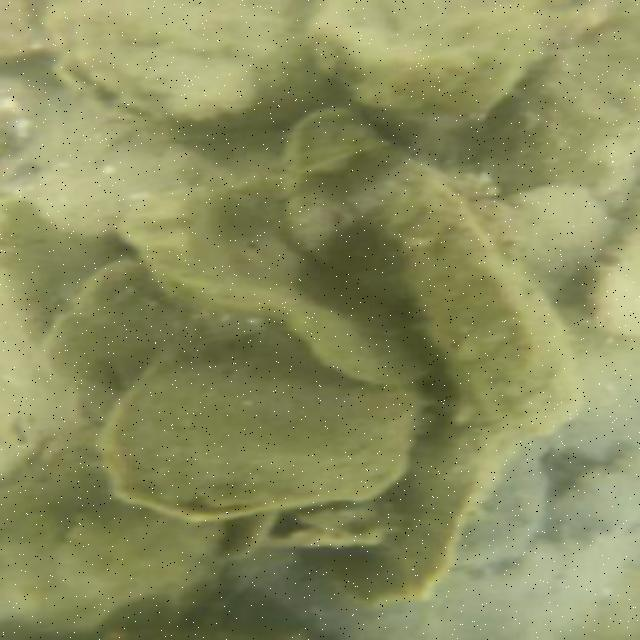Oyster-Closed: (98, 326, 424, 516), (392, 171, 580, 445), (308, 422, 526, 609), (45, 0, 328, 130), (317, 0, 596, 121), (280, 106, 436, 309), (489, 183, 620, 308)
